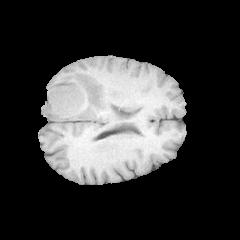glioma: (43, 72, 111, 120)
